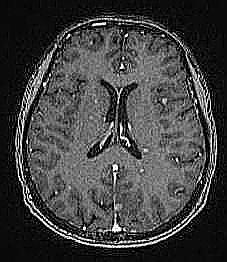Normal_Brain: (2, 4, 227, 262)
